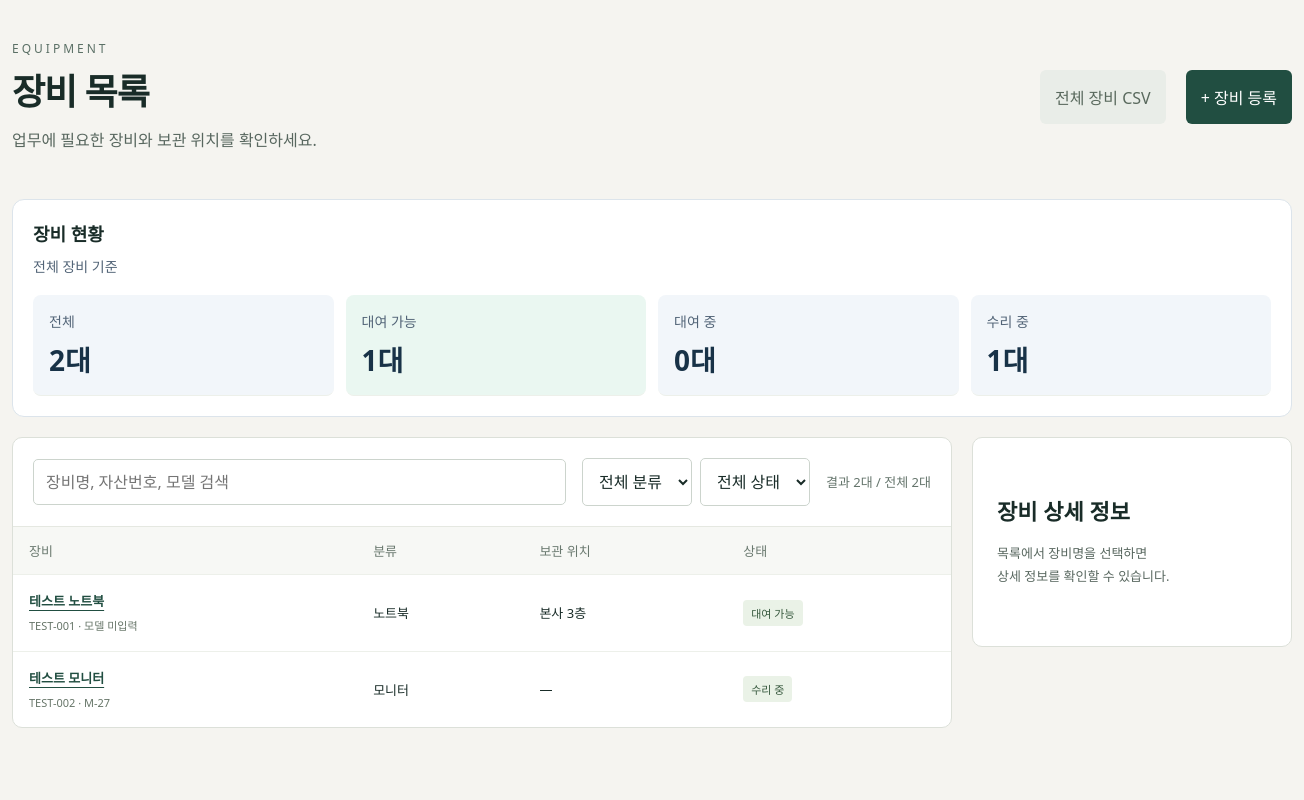
Test: administrator can copy and still edit the asset
Click the button "테스트 노트북" at (67, 600), box [29,591,104,610]
(page scrolled)
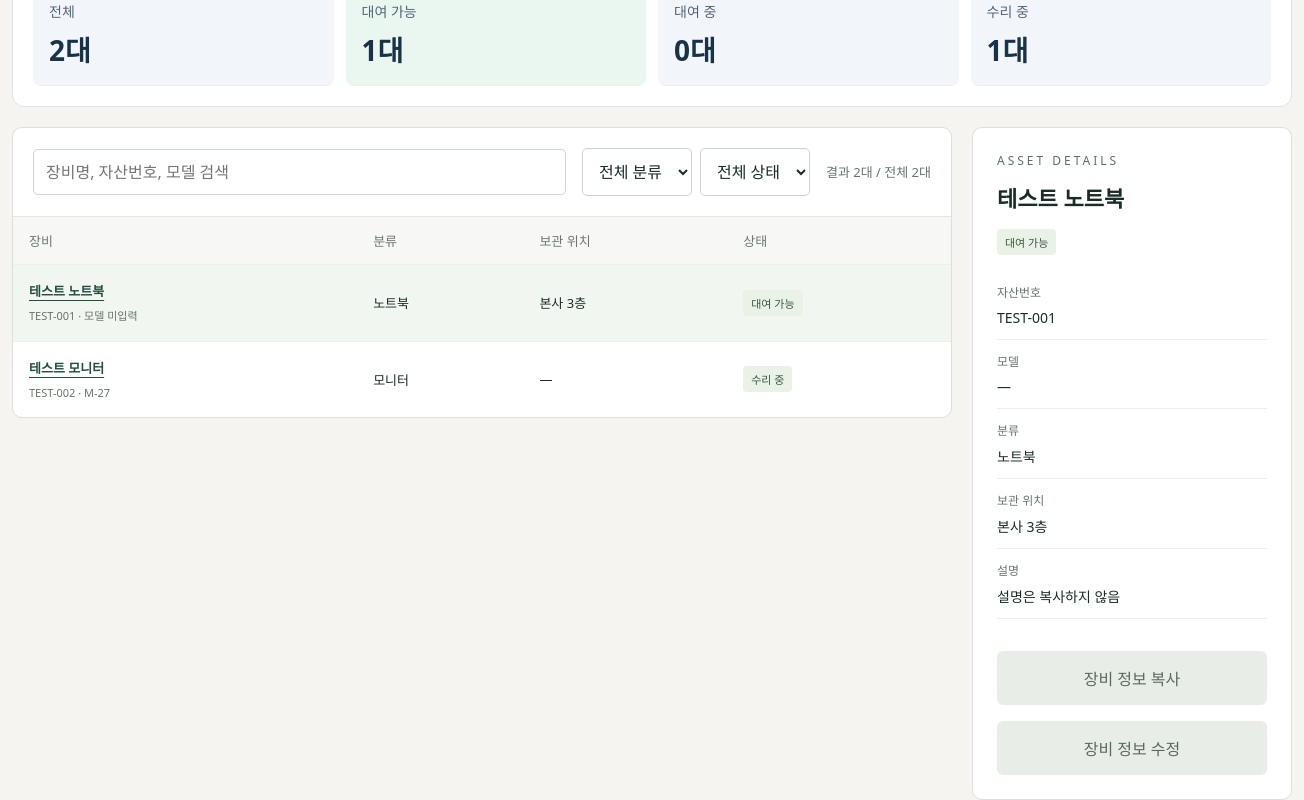
expect the heading "테스트 노트북" is shown: met, box [997,183,1124,213]
Click the button "장비 정보 복사" at (1132, 678), box [997,651,1267,705]
(page scrolled)
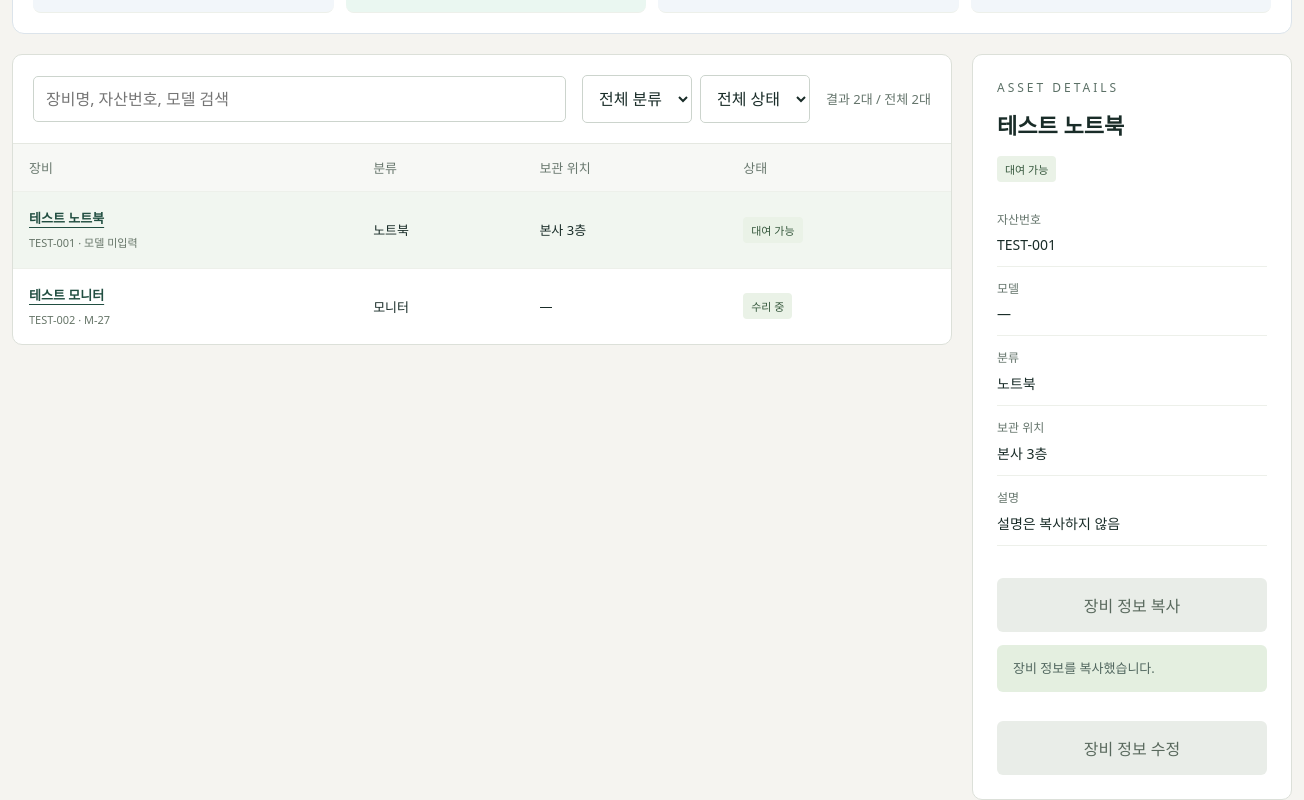
expect the button "장비 정보 수정" is shown: met, box [997,721,1267,775]
expect the text "장비 정보를 복사했습니다." is shown: met, box [997,645,1267,692]
